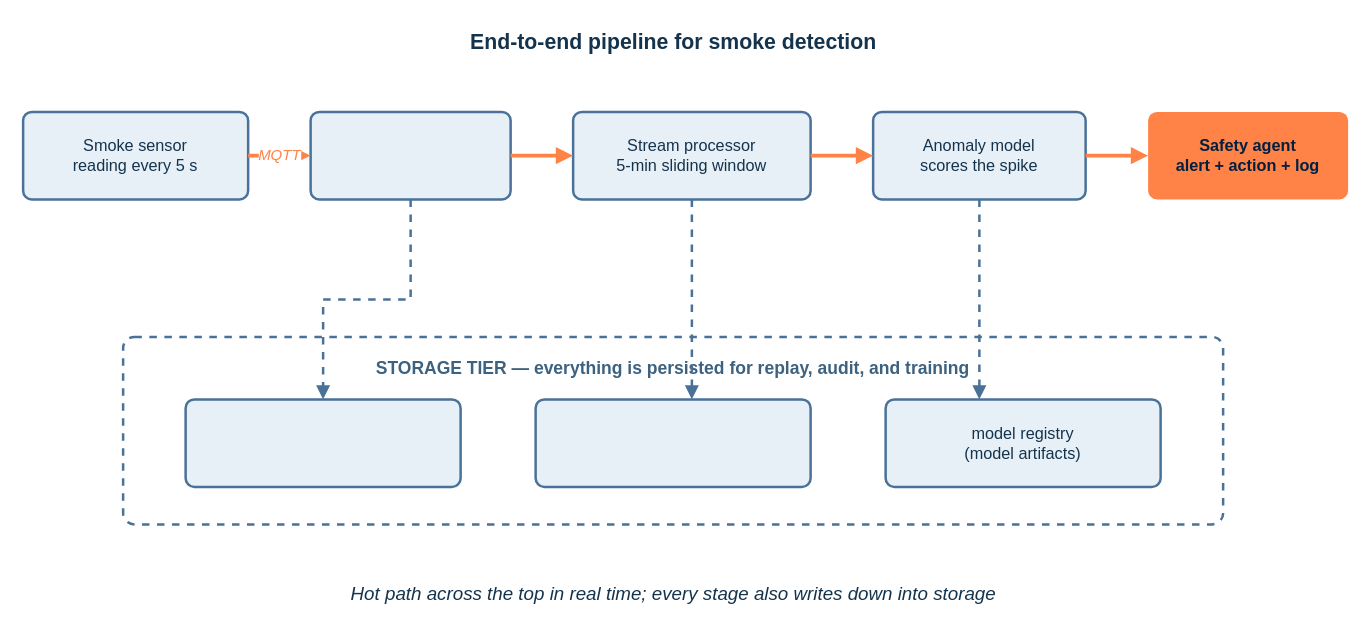
Image size: 1369x630. Some labels were removed from this diagram. Each missing label, with the centre of its shape:
Broker MQTT topic: the point at 410,155
data lake (Parquet, cold path): the point at 672,443
time-series DB (hot path): the point at 322,443
